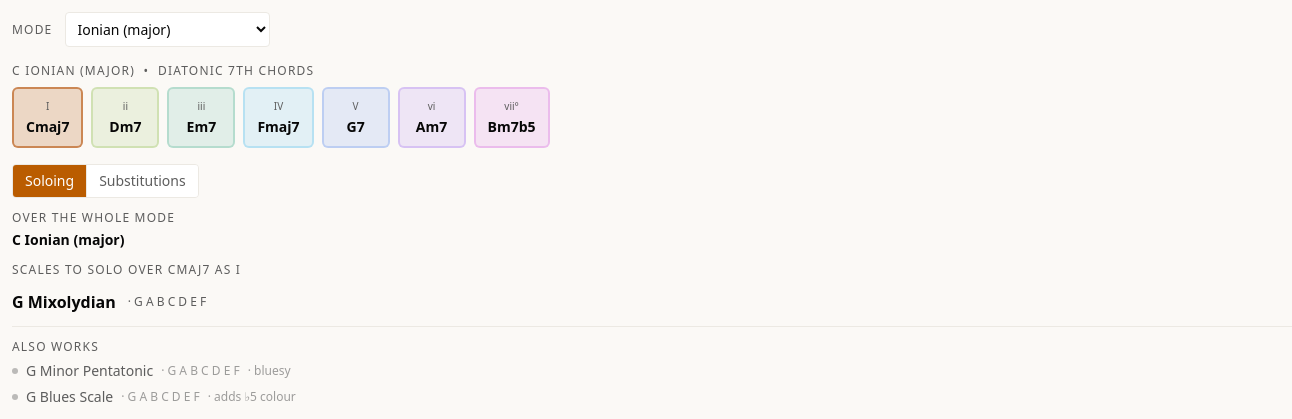
Scenario: HarmonyTab › switches to Substitutions tab on click shows empty state
The width and height of the screenshot is (1292, 419).
Click the button "Substitutions". click: (142, 180)
box: [86, 164, 198, 196]
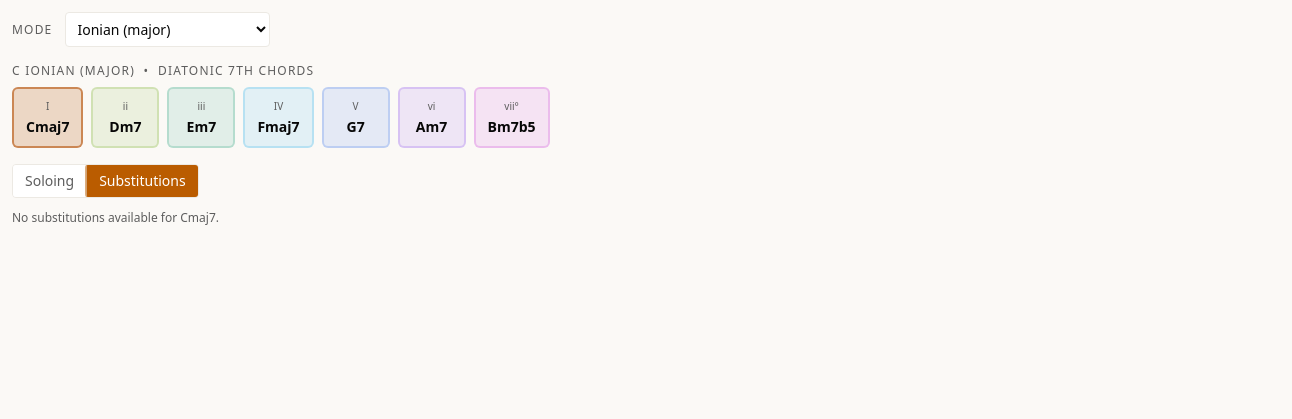
Expected: the text "No substitutions available for Cmaj7." is shown, [12, 208, 219, 226]
